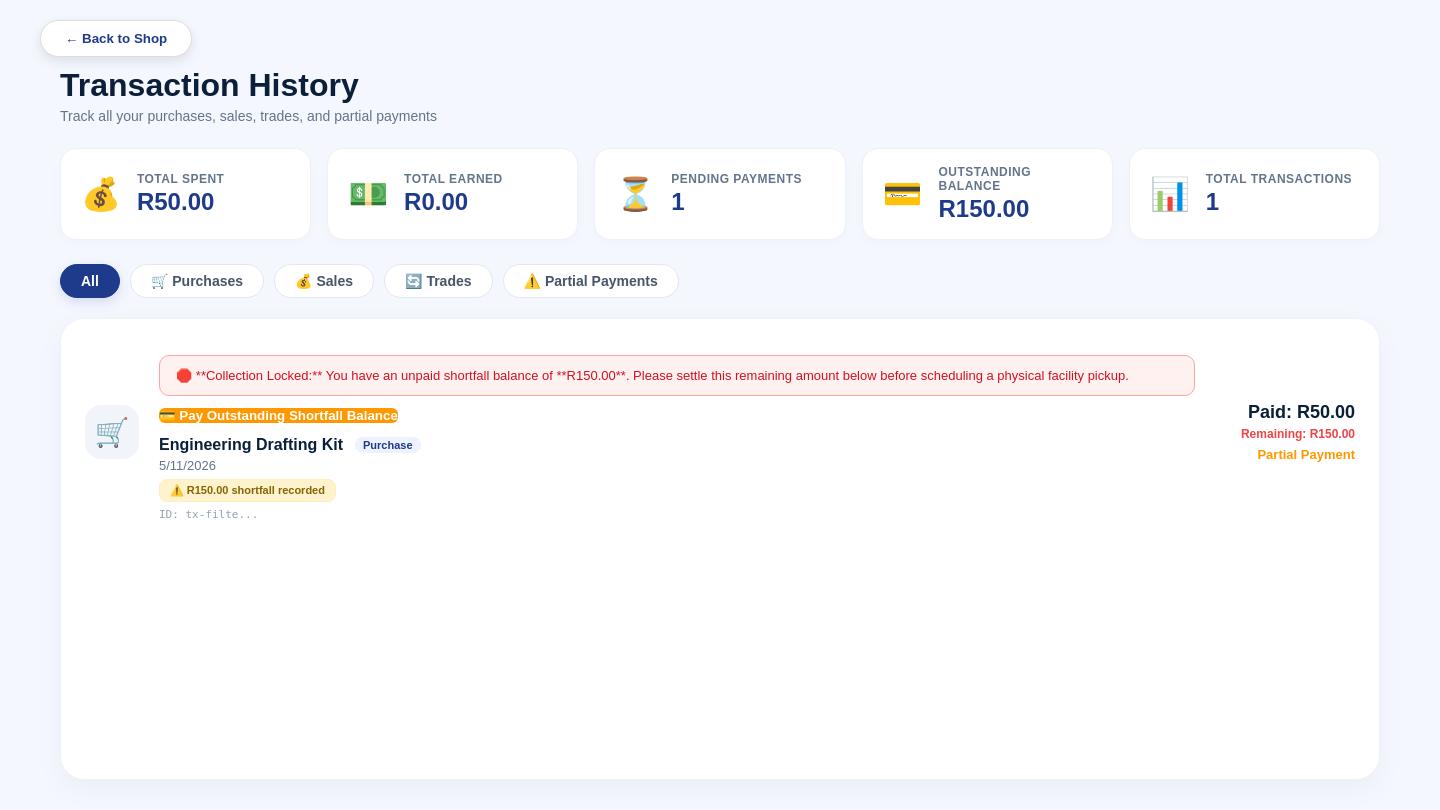
TransactionHistory Component Unit & Boundary Test Suite › executes filter button selection updates to sort history cards accurately
Click the button "🛒 Purchases".
click(197, 281)  # box 130,264 -> 264,298
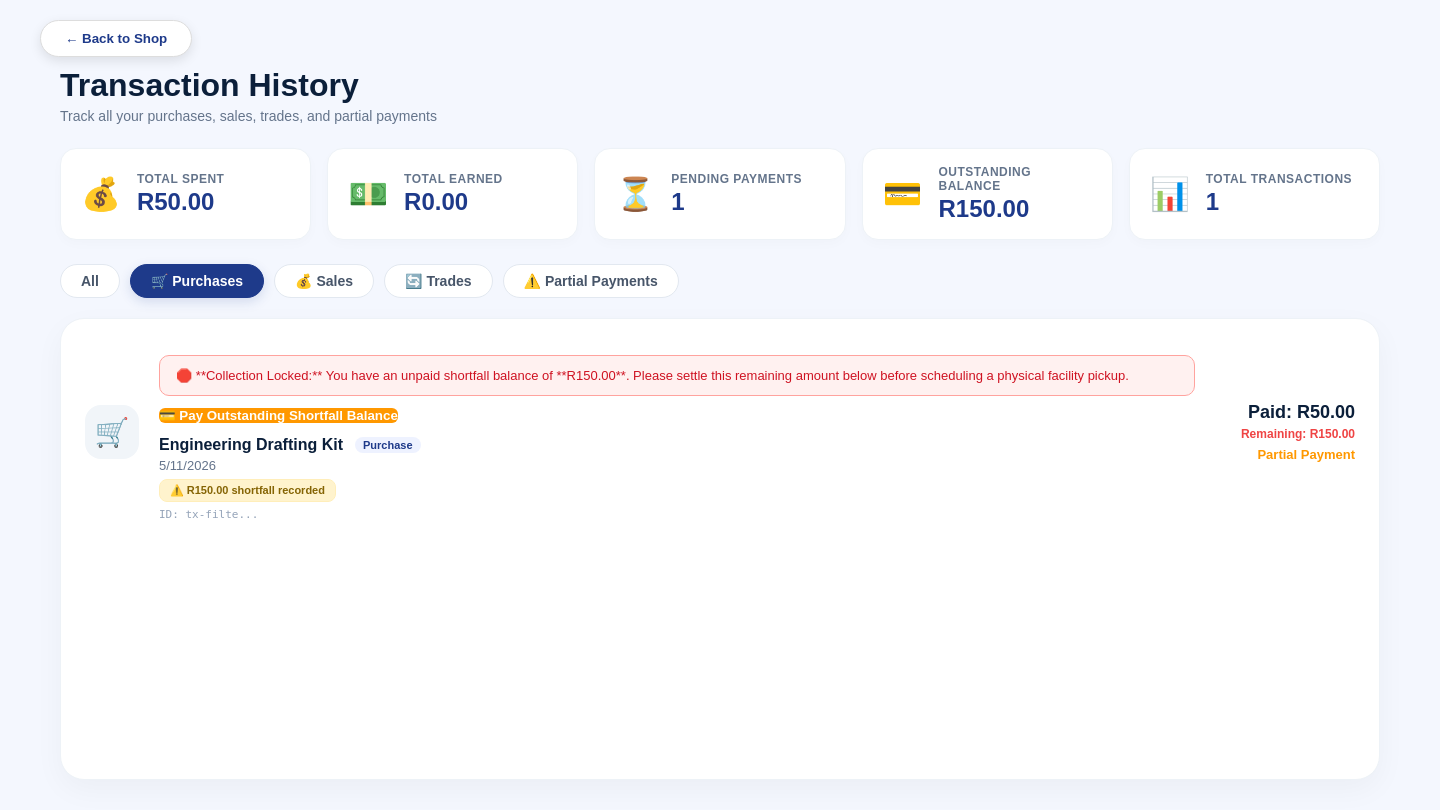
Check: the text "Engineering Drafting Kit" is shown, box 159,436 -> 343,454
Click the button "💰 Sales".
click(324, 281)  # box 274,264 -> 374,298
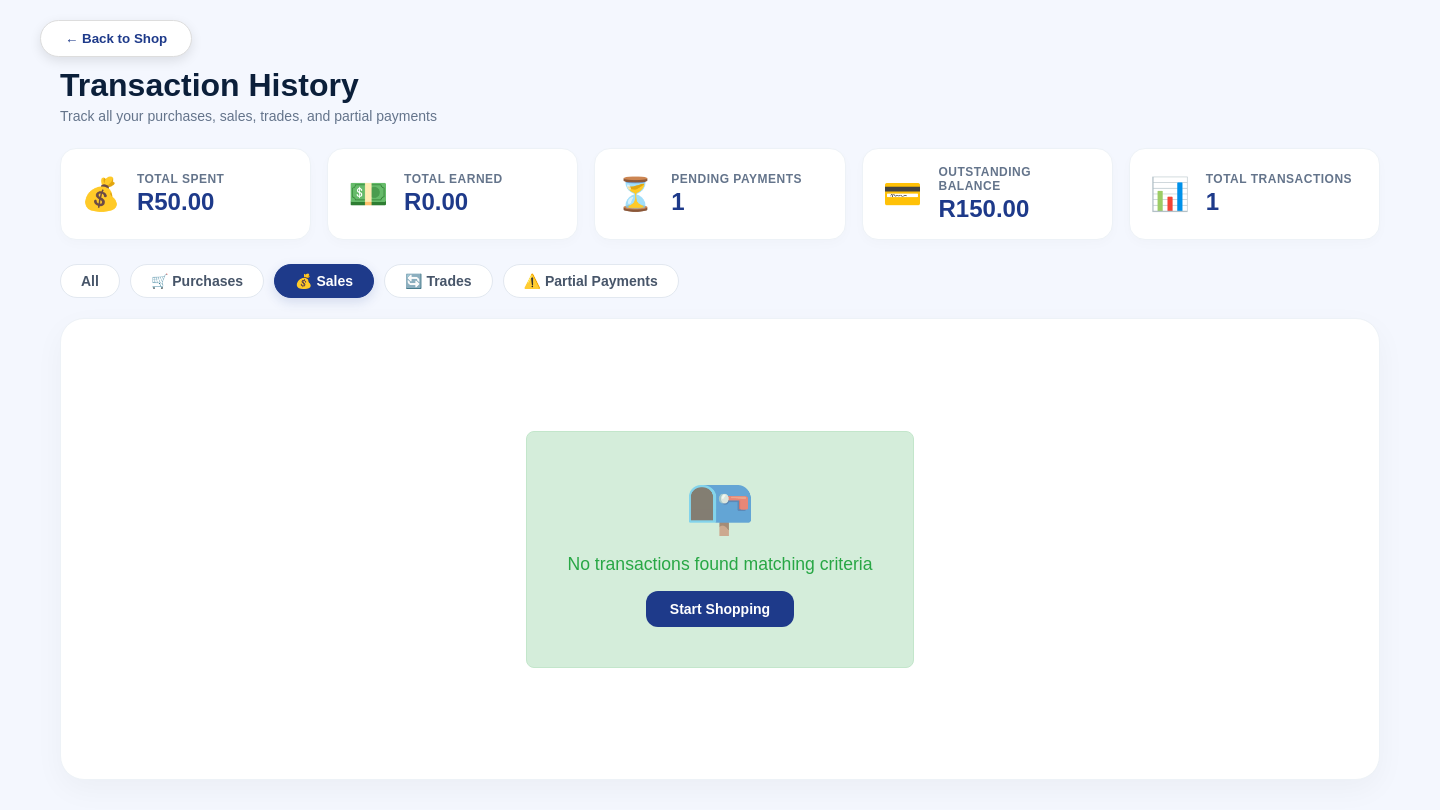
Check: the text "Engineering Drafting Kit" is gone
Click the button "⚠️ Partial Payments".
click(591, 281)  # box 502,264 -> 679,298
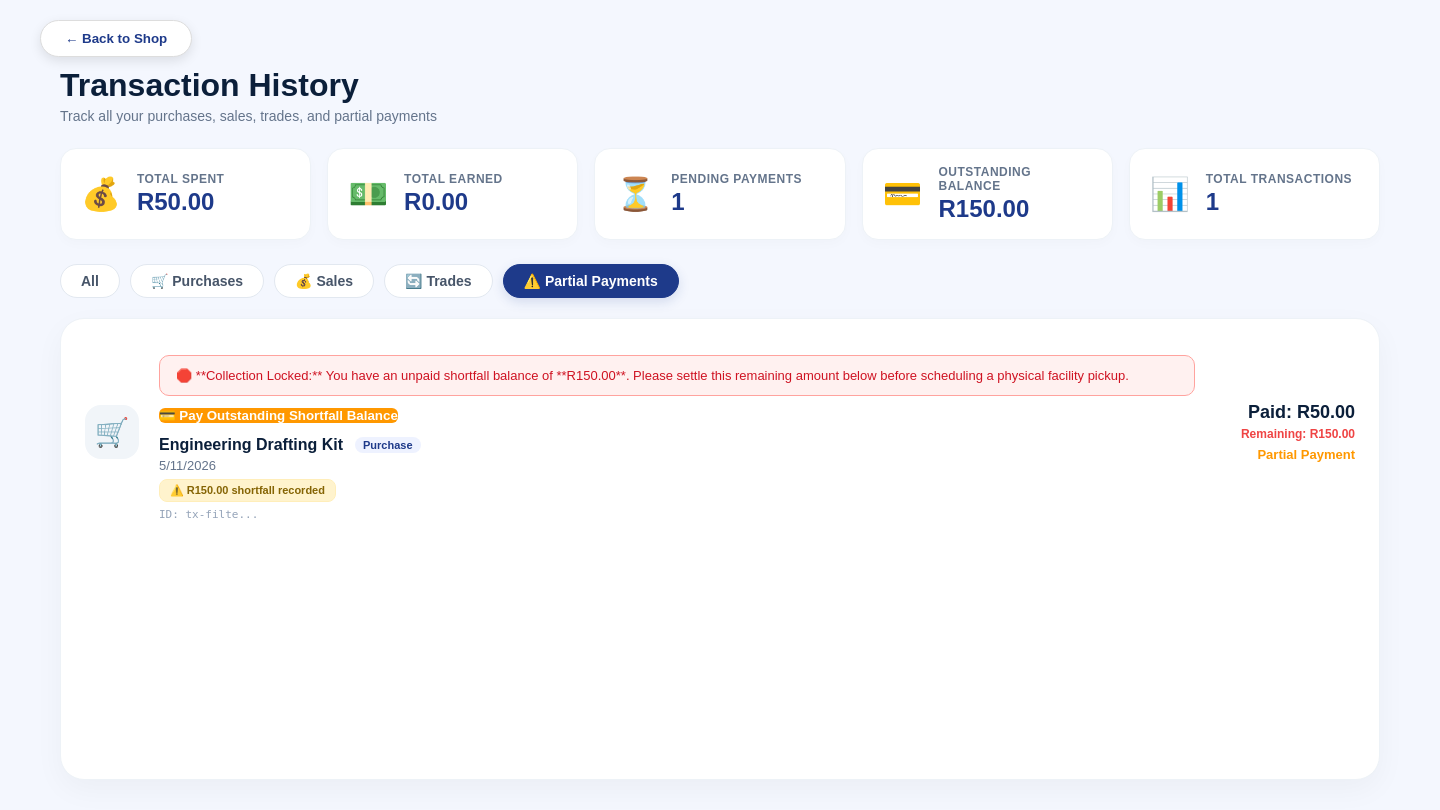
Check: the text "Engineering Drafting Kit" is shown, box 159,436 -> 343,454
